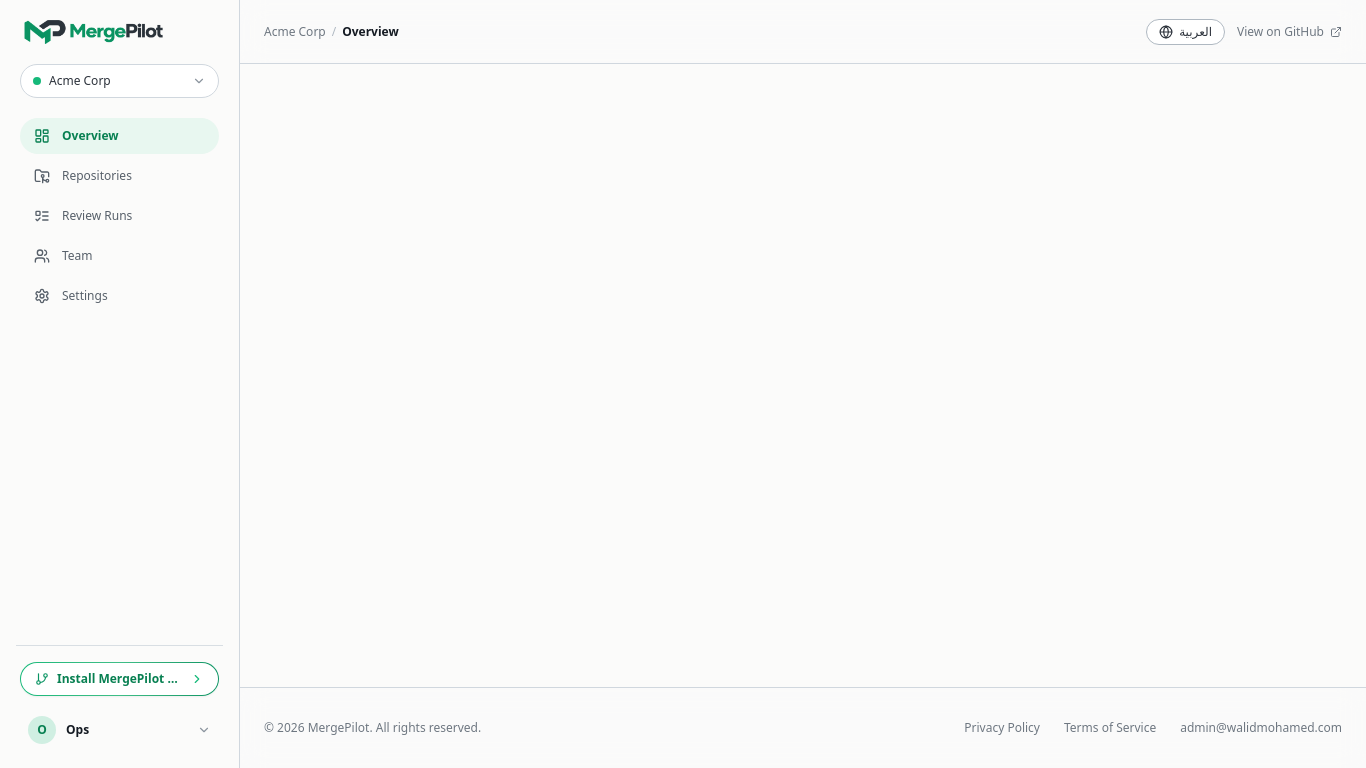
it: Layout avatar menu: platform admin entry › is not in the page at all for users who are not platform admins
Click the button "O Ops". click: coordinates (120, 730)
box: top-left (20, 708), bottom-right (219, 752)
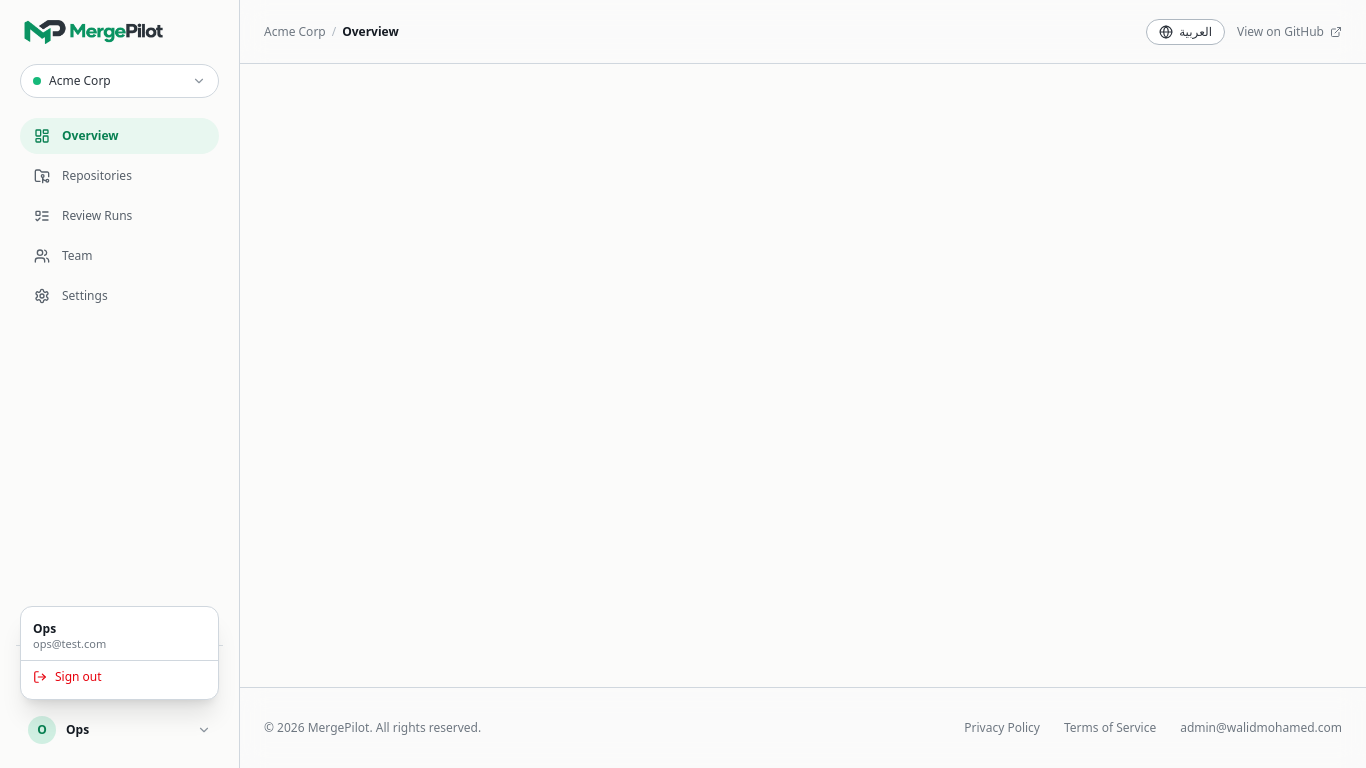
Check: the menu is shown, box top-left (20, 606), bottom-right (219, 700)
